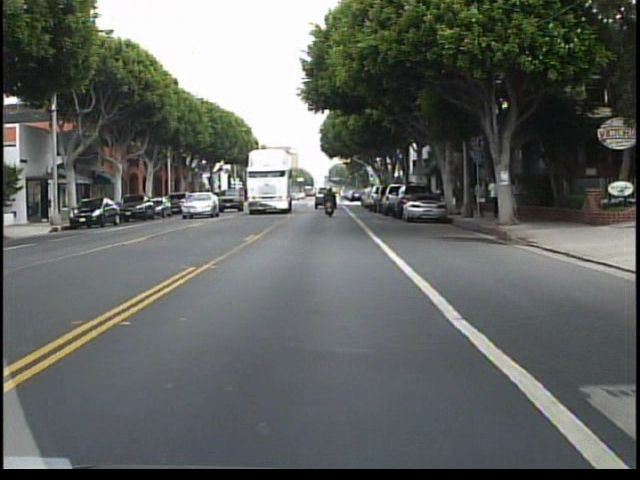person: (486, 175, 501, 222), (322, 183, 340, 220), (474, 176, 489, 220), (514, 172, 515, 223)
